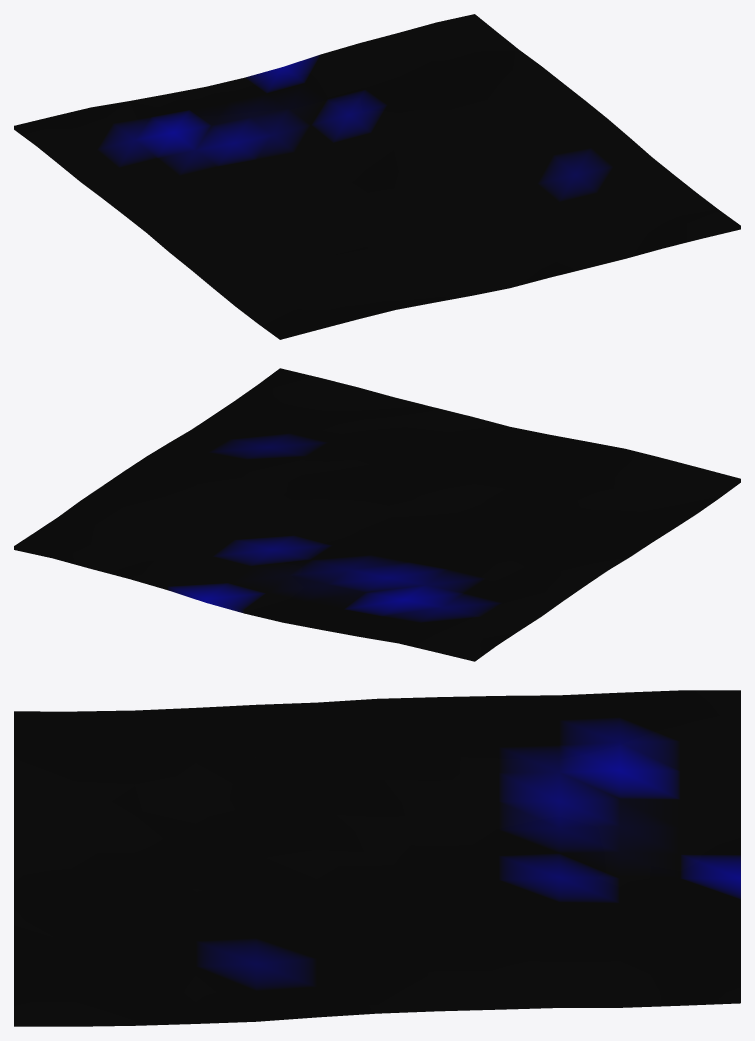
File: coast_23_7.glb
The picture shows the model from 3 angles, top to bottom: view 1: azimuth 30°, elevation 25°; view 2: azimuth 150°, elevation 25°; view 3: azimuth 270°, elevation 25°; orthographic projection. The views are drawn at different scales.
Parts seen in each view (by area): view 1: terrain; view 2: terrain; view 3: terrain.
Boxes of the visible parts, x1,y1,x2,y2 form: terrain: (14,14,740,339); terrain: (14,368,740,661); terrain: (14,690,740,1026).
Size of the model in its own units: 192 by 9.56 by 192.
